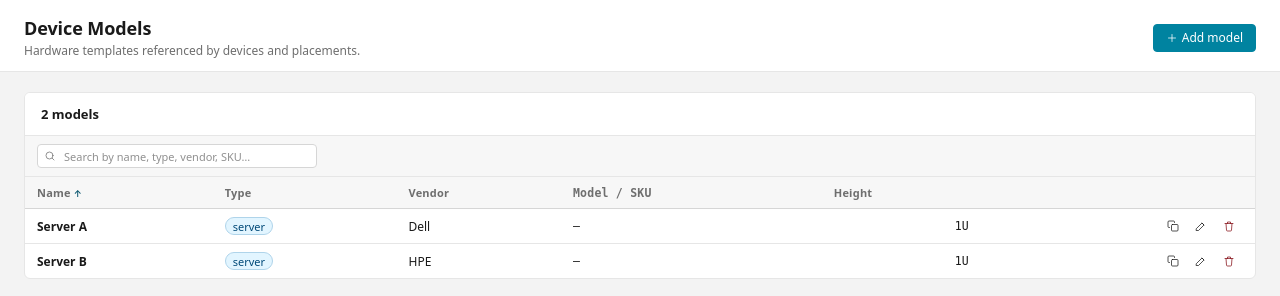
Test: DeviceModelsPanel — search › search by vendor matches correctly
The image size is (1280, 296).
Expected: the text "Server A" is shown, 37,218 -> 87,234
Type "hpe" into the field with placeholder "Search by name, type, vendor, SKU…" at [177, 156], box 37,144 -> 317,168
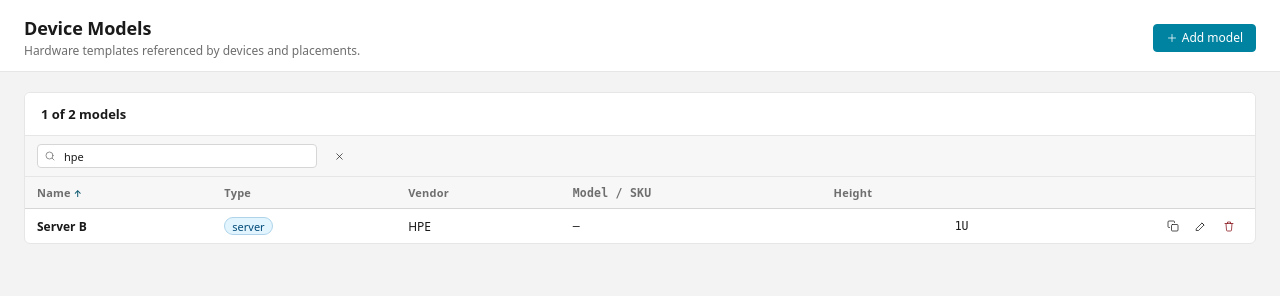
Expected: the text "Server B" is shown, 37,218 -> 87,234
Expected: the text "Server A" is gone
